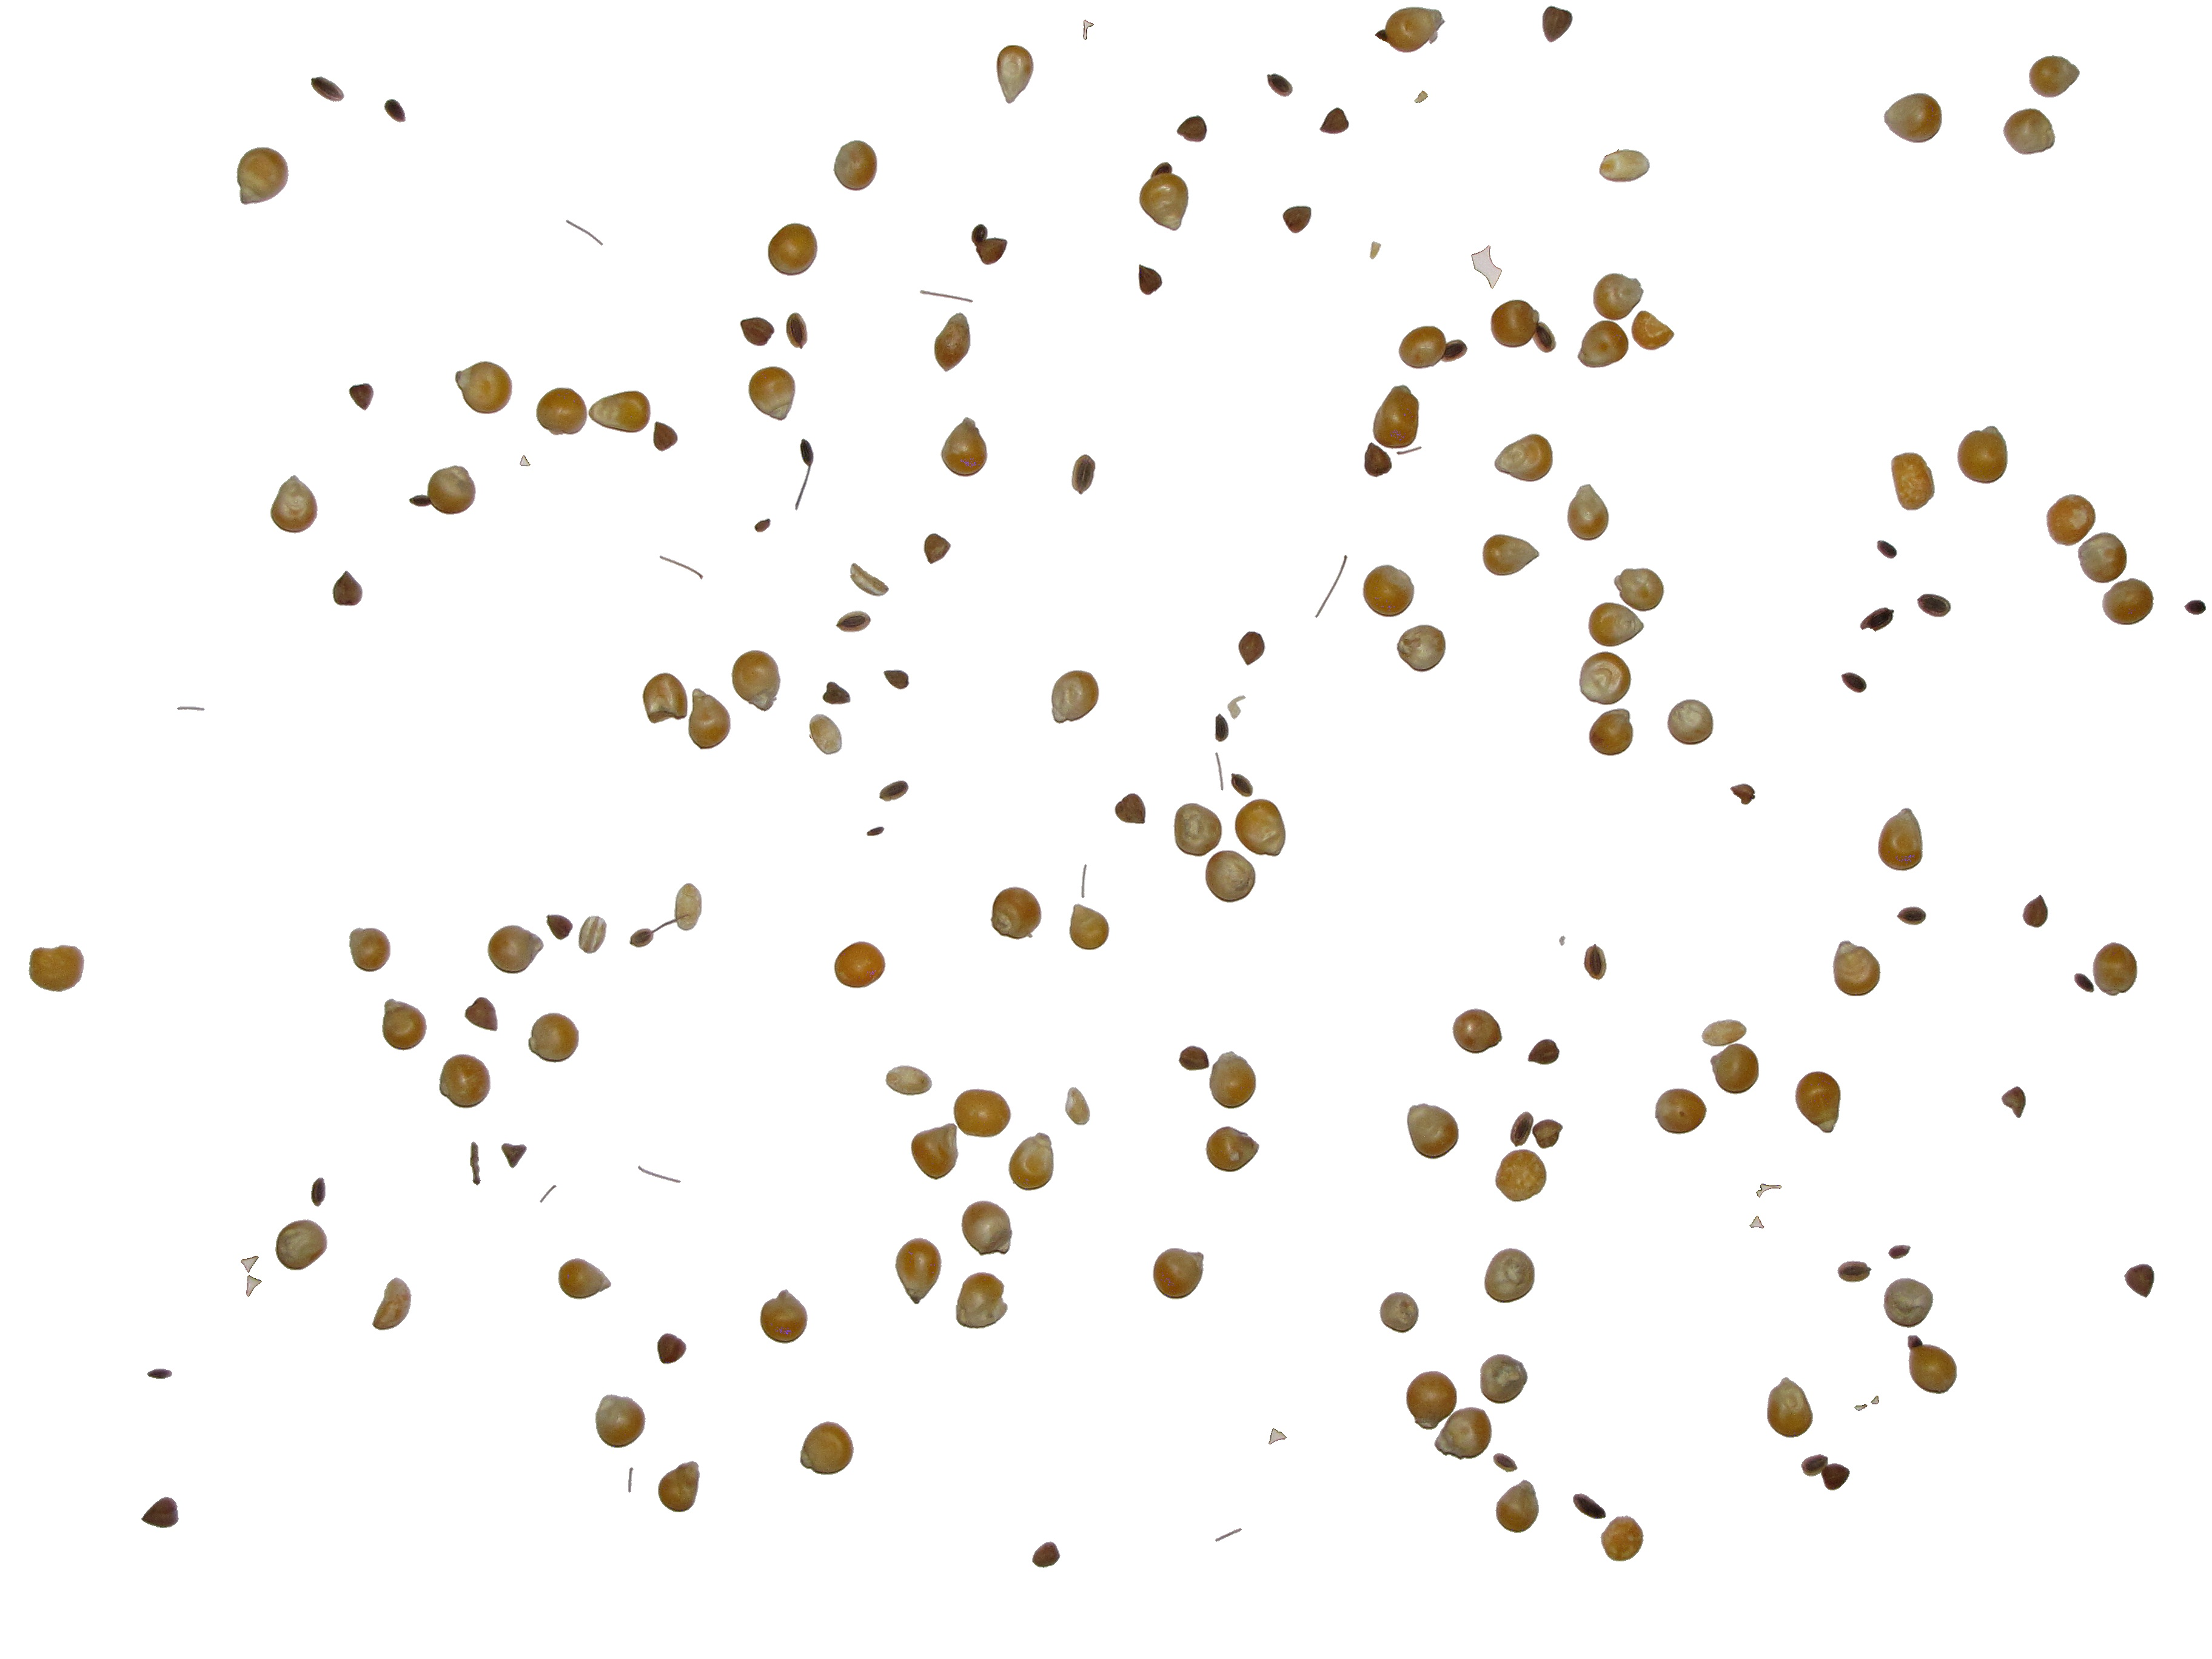buckwheat: (1801, 1455, 1850, 1490), (465, 997, 496, 1032), (1543, 5, 1573, 42), (333, 572, 362, 606), (145, 1497, 179, 1527), (1115, 793, 1146, 824), (2125, 1263, 2155, 1297), (1071, 455, 1096, 495), (1364, 443, 1392, 477), (740, 317, 775, 345), (657, 1333, 686, 1364), (1533, 1119, 1562, 1148), (1238, 633, 1264, 666), (925, 533, 951, 565), (2022, 896, 2048, 927), (1527, 1039, 1559, 1065), (1573, 1493, 1606, 1518), (1510, 1112, 1533, 1147), (1284, 206, 1312, 234), (1320, 108, 1350, 134), (1183, 115, 1212, 141), (312, 77, 343, 101), (1860, 608, 1893, 631), (1918, 594, 1951, 617), (836, 612, 871, 633), (981, 237, 1007, 265), (2001, 1087, 2026, 1117), (653, 422, 678, 451), (1179, 1046, 1209, 1070), (1033, 1542, 1061, 1567), (1139, 265, 1162, 295), (787, 314, 806, 349), (547, 915, 573, 939), (822, 681, 850, 704), (880, 781, 909, 802), (502, 1143, 526, 1168), (350, 383, 373, 410), (1268, 73, 1292, 96), (1897, 908, 1926, 925), (885, 669, 909, 690), (1841, 673, 1867, 692), (385, 99, 406, 122), (1231, 774, 1252, 796), (1493, 1453, 1517, 1473), (470, 1141, 481, 1185), (312, 1178, 326, 1206), (2074, 974, 2094, 992), (1878, 540, 1897, 558), (1888, 1244, 1911, 1258), (2184, 599, 2205, 613), (148, 1370, 172, 1378), (1871, 1396, 1879, 1405)
dill: (1315, 556, 1348, 617), (566, 220, 603, 246), (660, 556, 702, 579), (639, 1166, 681, 1183), (796, 460, 810, 511), (920, 291, 972, 301), (1216, 1528, 1242, 1540), (1216, 753, 1223, 789), (1270, 1429, 1285, 1445), (1082, 864, 1087, 897), (629, 1467, 632, 1492), (178, 708, 204, 709)
mais: (1139, 162, 1188, 230), (455, 361, 512, 413), (732, 650, 780, 711), (1372, 385, 1420, 448), (895, 1239, 941, 1303), (1435, 1408, 1491, 1460), (1407, 1103, 1458, 1159), (956, 1272, 1007, 1328), (1235, 800, 1285, 856), (237, 148, 287, 204), (1907, 1337, 1956, 1394), (1885, 94, 1942, 143), (1407, 1371, 1456, 1429), (1494, 434, 1554, 481), (1796, 1072, 1841, 1133), (1879, 809, 1923, 871), (801, 1422, 853, 1474), (1484, 1248, 1534, 1302), (439, 1054, 489, 1108), (961, 1201, 1012, 1255), (1958, 427, 2006, 483), (941, 418, 988, 476), (1768, 1378, 1813, 1438), (1386, 7, 1446, 52), (275, 1220, 327, 1270), (1496, 1150, 1547, 1202), (1205, 850, 1256, 903), (1364, 565, 1414, 617), (991, 887, 1042, 939), (1580, 652, 1630, 704), (1832, 941, 1881, 995), (596, 1394, 644, 1448), (488, 925, 543, 972), (911, 1124, 958, 1180), (589, 390, 651, 432), (954, 1089, 1010, 1136), (272, 476, 317, 533), (1008, 1133, 1054, 1190), (1211, 1051, 1256, 1108), (1153, 1248, 1204, 1298), (688, 688, 730, 749), (768, 223, 817, 275), (30, 945, 84, 992), (1892, 453, 1935, 511), (1710, 1044, 1759, 1094), (1885, 1277, 1933, 1328), (2047, 495, 2095, 545), (529, 1012, 578, 1063), (1052, 671, 1099, 723), (1174, 803, 1221, 856), (1205, 1126, 1259, 1171), (761, 1290, 806, 1344), (1588, 603, 1644, 647), (2078, 533, 2127, 582), (1578, 321, 1629, 368), (834, 941, 885, 988), (2003, 108, 2055, 153), (1655, 1089, 1707, 1134), (749, 368, 794, 420), (1568, 484, 1609, 540), (1482, 535, 1540, 575), (1397, 626, 1446, 673), (1594, 274, 1642, 321), (1480, 1354, 1527, 1403), (1491, 300, 1538, 349), (643, 673, 688, 723), (2102, 579, 2153, 624), (536, 389, 587, 434), (383, 999, 427, 1051), (2094, 943, 2137, 995), (1496, 1480, 1538, 1532), (1588, 709, 1634, 756), (1399, 326, 1446, 371), (1615, 568, 1663, 612), (1453, 1009, 1501, 1053), (2029, 56, 2080, 98), (934, 314, 970, 371), (996, 45, 1033, 103), (559, 1258, 611, 1298), (834, 141, 876, 190), (434, 465, 475, 514), (1667, 701, 1712, 744), (658, 1462, 698, 1511), (1601, 1516, 1642, 1561), (1069, 904, 1109, 950), (350, 927, 390, 971), (1632, 310, 1674, 350), (1379, 1293, 1418, 1333), (810, 714, 843, 755), (887, 1066, 932, 1094), (1702, 1019, 1747, 1046), (1066, 1087, 1090, 1124)
other: (373, 1277, 411, 1330), (1599, 150, 1649, 181), (674, 884, 702, 934), (850, 563, 888, 596), (1472, 246, 1501, 288), (578, 917, 606, 953), (1583, 945, 1606, 979), (1838, 1262, 1871, 1283), (1731, 784, 1756, 805), (1228, 695, 1245, 720), (1216, 714, 1228, 742), (1757, 1185, 1782, 1197), (247, 1276, 261, 1297), (542, 1185, 557, 1202), (1083, 19, 1094, 40), (1397, 446, 1421, 455), (1369, 240, 1381, 258), (754, 519, 770, 532), (1414, 91, 1428, 103), (1750, 1216, 1764, 1229), (246, 1262, 258, 1272), (867, 828, 885, 835), (521, 457, 529, 465), (1855, 1405, 1867, 1410), (1559, 936, 1566, 945)
